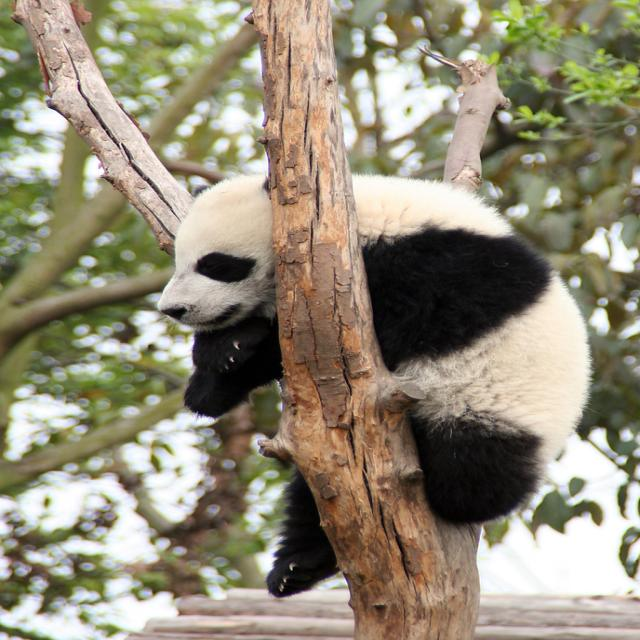panda: (150, 171, 594, 600)
